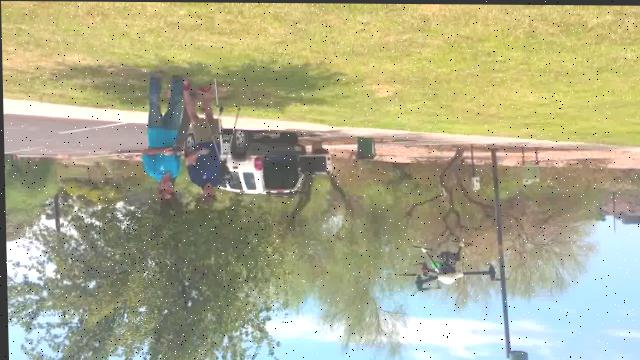drone: (0, 1, 640, 219)
